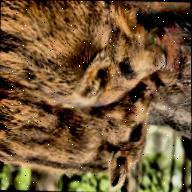boar: (0, 0, 172, 114), (0, 74, 162, 190)
